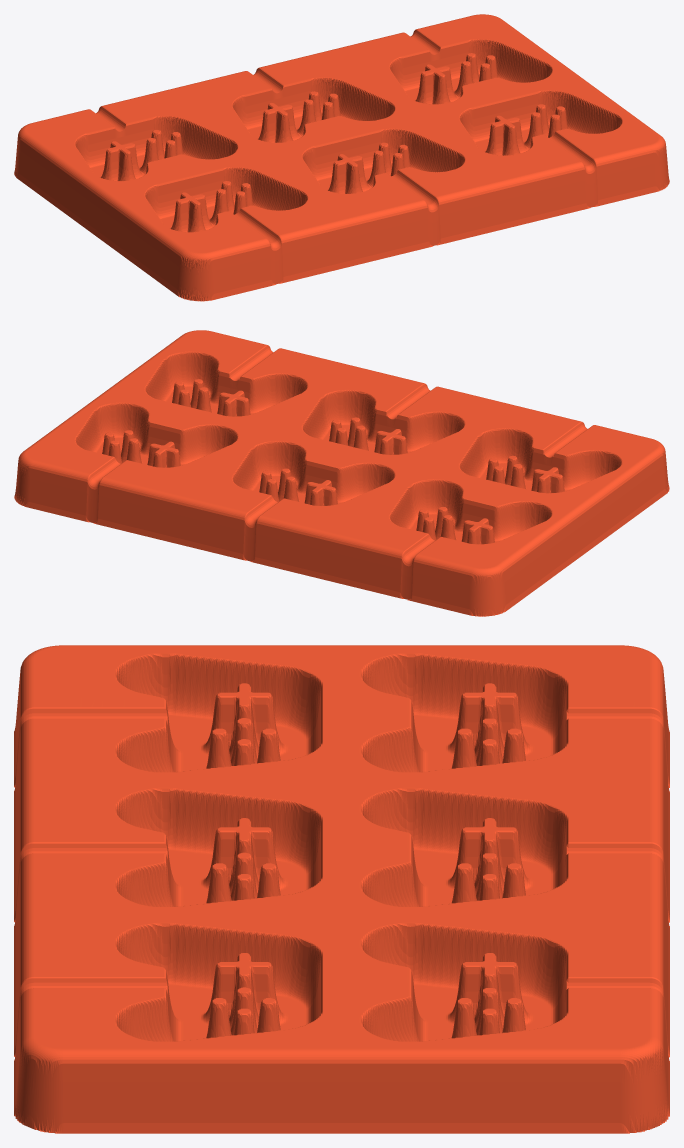
The model's file is mold.glb.
The picture shows the model from 3 angles, top to bottom: view 1: azimuth 30°, elevation 25°; view 2: azimuth 150°, elevation 25°; view 3: azimuth 270°, elevation 25°; orthographic projection. The views are drawn at different scales.
Parts seen in each view (by area): view 1: geometry_0; view 2: geometry_0; view 3: geometry_0.
Part boxes in pixels (x1,y1,x2,y2): geometry_0: (14,14,669,301); geometry_0: (14,330,669,616); geometry_0: (14,645,669,1133).
Size of the model in its own units: 0.1824 by 0.0155 by 0.1207.
